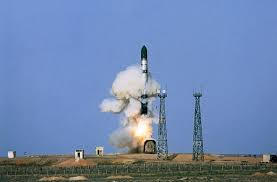ten_lua: (133, 46, 157, 139)
